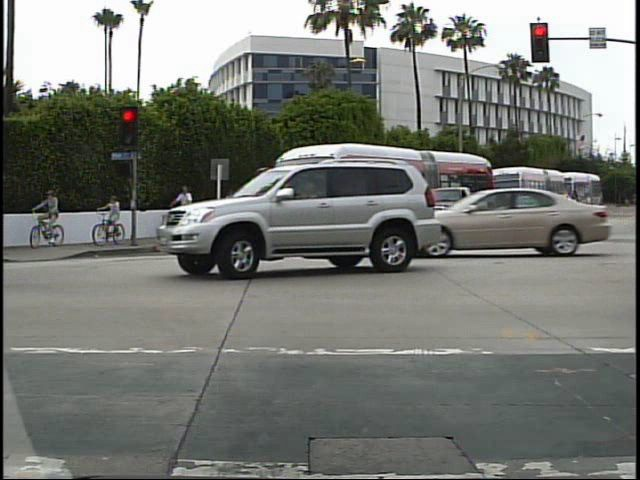person: (99, 194, 124, 247)
